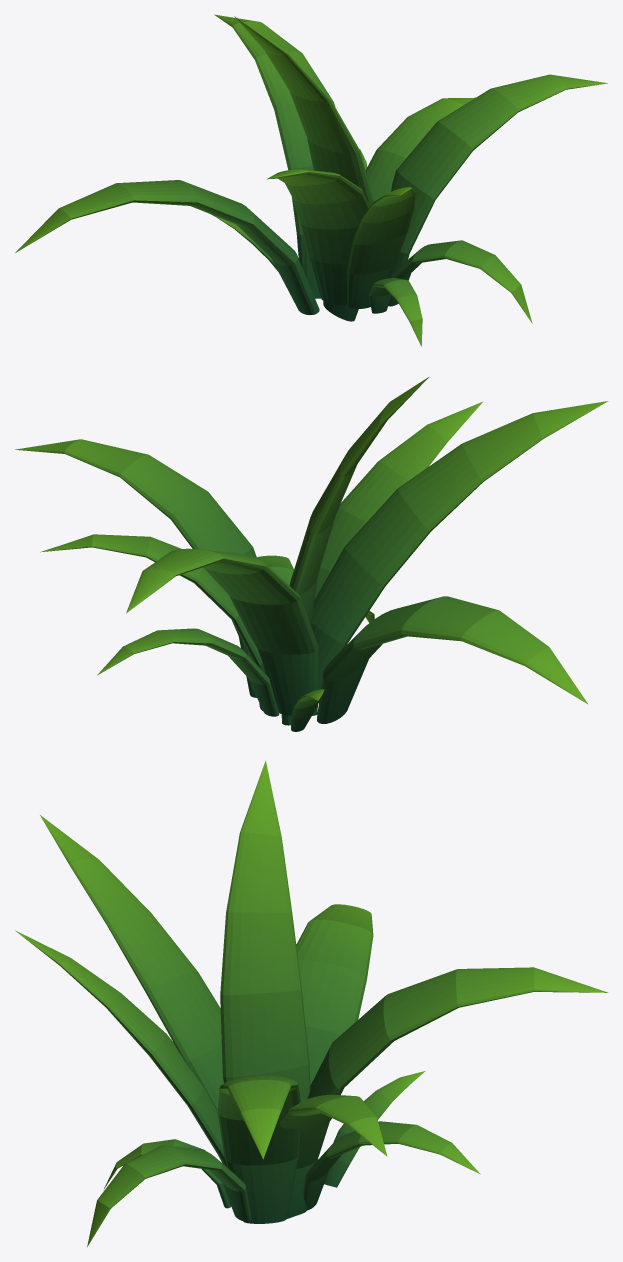
The model's file is Grass 02.fbx.
3 renders of one model, top to bottom at view 1: azimuth 30°, elevation 25°; view 2: azimuth 150°, elevation 25°; view 3: azimuth 270°, elevation 25°, orthographic. The views are drawn at different scales.
Visible parts, largest first — view 1: pCylinder12, pCylinder11, pCylinder7, pCylinder13, pCylinder3, pCylinder5, pCylinder9, pCylinder8, pCylinder10; view 2: pCylinder7, pCylinder3, pCylinder11, pCylinder12, pCylinder5, pCylinder13, pCylinder9, pCylinder4, pCylinder6, pCylinder8; view 3: pCylinder13, pCylinder7, pCylinder3, pCylinder12, pCylinder11, pCylinder5, pCylinder9, pCylinder8, pCylinder4, pCylinder6, pCylinder10.
Part boxes in pixels (box(x1,y1,x2,y2)): pCylinder12: box(388, 74, 607, 278); pCylinder11: box(15, 180, 319, 314); pCylinder7: box(267, 169, 370, 305); pCylinder13: box(234, 16, 373, 321); pCylinder3: box(214, 14, 335, 298); pCylinder5: box(346, 187, 415, 308); pCylinder9: box(365, 97, 475, 201); pCylinder8: box(388, 240, 532, 323); pCylinder10: box(368, 278, 422, 346); pCylinder7: box(311, 401, 608, 689); pCylinder3: box(126, 548, 318, 715); pCylinder11: box(317, 596, 588, 723); pCylinder12: box(15, 439, 256, 697); pCylinder5: box(314, 401, 483, 599); pCylinder13: box(281, 377, 428, 725); pCylinder9: box(40, 534, 264, 710); pCylinder4: box(97, 628, 279, 716); pCylinder6: box(291, 689, 324, 731); pCylinder8: box(257, 555, 293, 585); pCylinder13: box(220, 760, 310, 1218); pCylinder7: box(40, 815, 223, 1111); pCylinder3: box(307, 967, 608, 1098); pCylinder12: box(217, 1075, 300, 1223); pCylinder11: box(296, 904, 373, 1085); pCylinder5: box(15, 930, 226, 1166); pCylinder9: box(280, 1094, 387, 1217); pCylinder8: box(87, 1145, 251, 1246); pCylinder4: box(303, 1121, 480, 1210); pCylinder6: box(324, 1071, 425, 1187); pCylinder10: box(104, 1139, 231, 1208).
Size of the model in its own units: 74.8 by 43.03 by 59.21.
